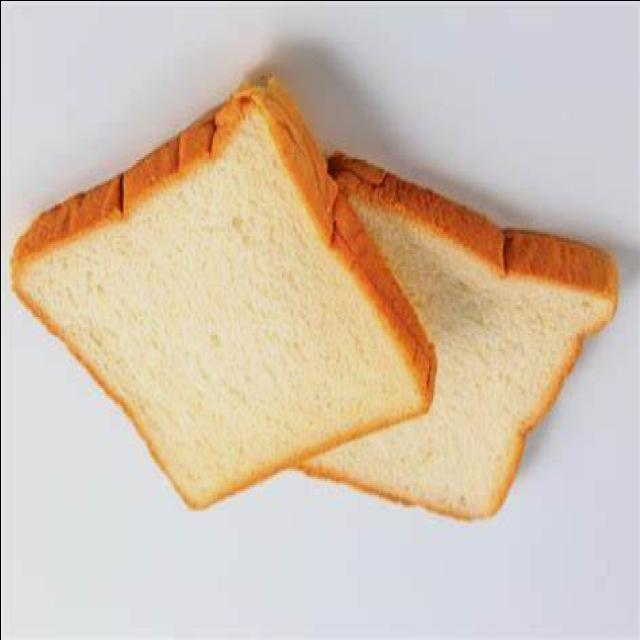roti tawar: (8, 73, 436, 504), (294, 154, 620, 521)
